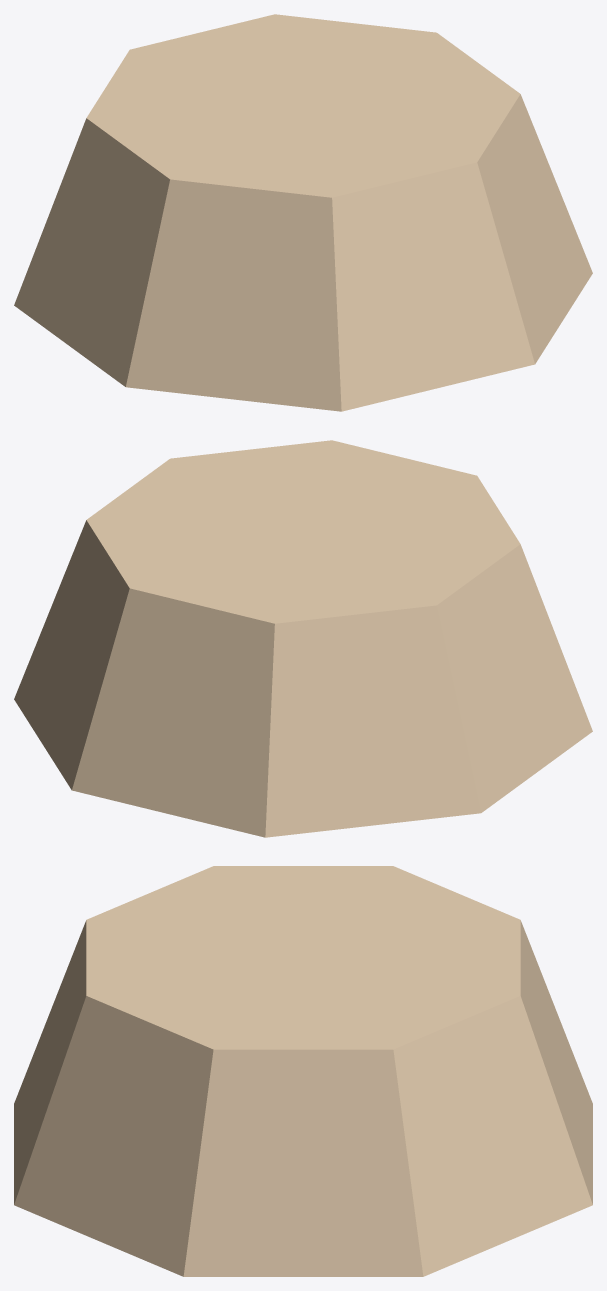
Rendered from temple_Wall_End_Base.glb.
3 renders of one model, top to bottom at view 1: azimuth 30°, elevation 25°; view 2: azimuth 150°, elevation 25°; view 3: azimuth 270°, elevation 25°, orthographic. The views are drawn at different scales.
Visible parts, largest first — view 1: object1; view 2: object1; view 3: object1.
Boxes of the visible parts, x1=… form: object1: x1=14, y1=14, x2=592, y2=411; object1: x1=14, y1=440, x2=592, y2=837; object1: x1=14, y1=866, x2=592, y2=1276.
Bounding box in the file's own units: 0.4 × 0.15 × 0.4.
